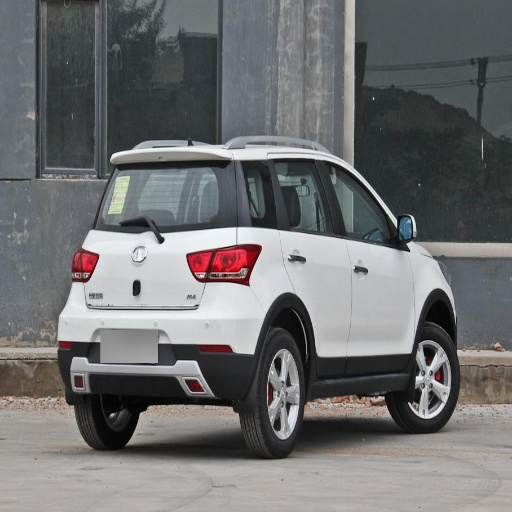back_bumper: (57, 284, 267, 402)
back_right_door: (269, 158, 350, 376)
trunk: (78, 233, 213, 312)
